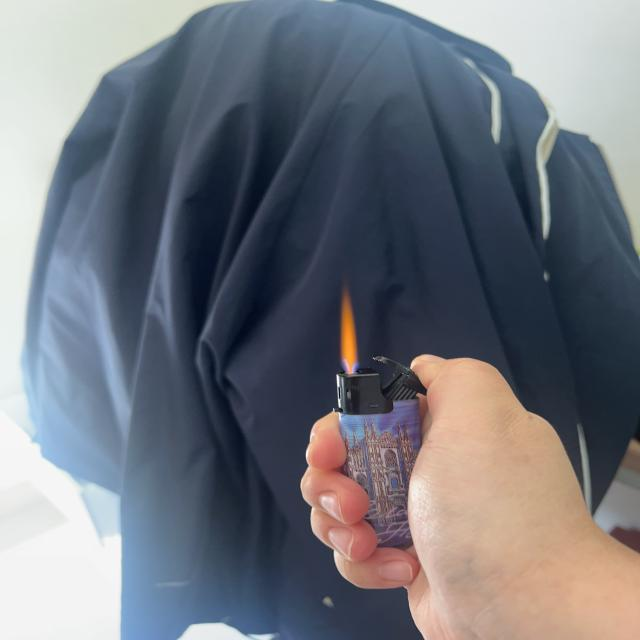fire: (338, 289, 362, 372)
